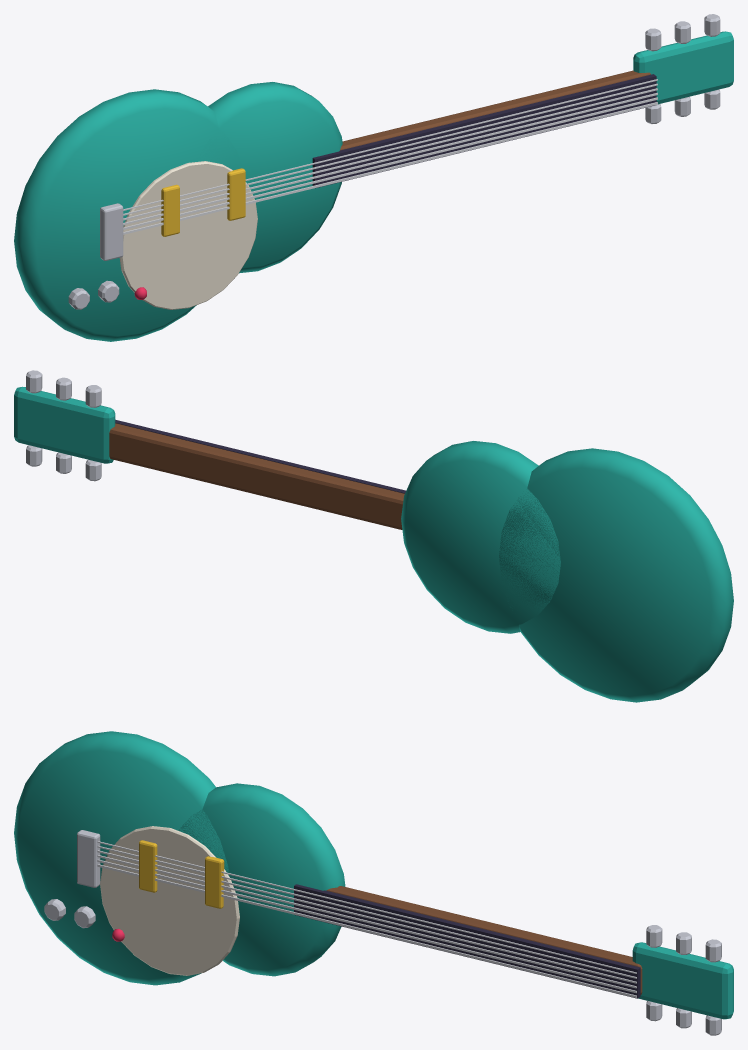
The model's file is guitar.glb.
3 renders of one model, top to bottom at view 1: azimuth 30°, elevation 25°; view 2: azimuth 150°, elevation 25°; view 3: azimuth 330°, elevation 25°, orthographic.
Parts seen in each view (by area): view 1: guitar_body, guitar_strings_noline; view 2: guitar_body; view 3: guitar_body, guitar_strings_noline.
Part boxes in pixels (x1=…): guitar_body: x1=14, y1=14, x2=733, y2=341; guitar_strings_noline: x1=123, y1=79, x2=657, y2=234; guitar_body: x1=14, y1=370, x2=733, y2=702; guitar_body: x1=14, y1=731, x2=733, y2=1035; guitar_strings_noline: x1=97, y1=841, x2=636, y2=997.
Size of the model in its own units: 1.09 by 0.35 by 0.064.
